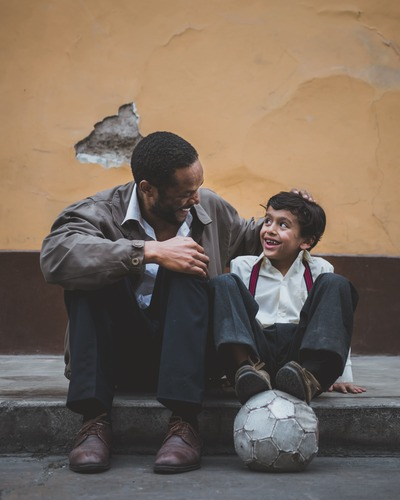without_mask: (158, 179, 205, 223), (260, 210, 295, 255)
